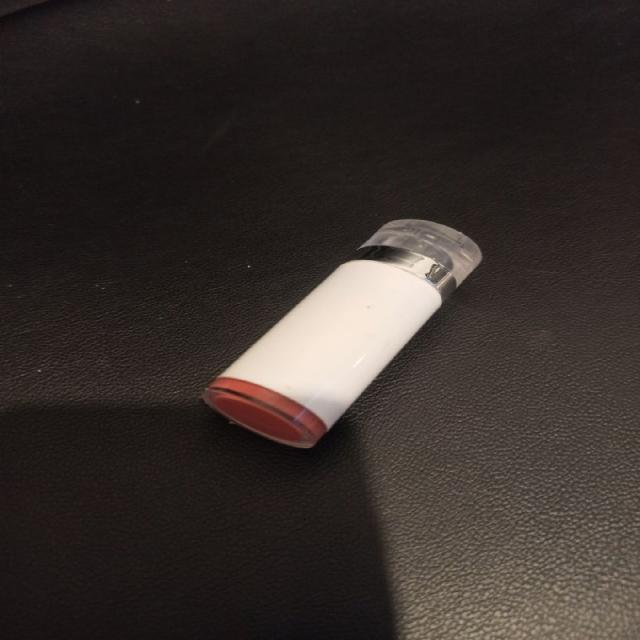lipstick: (202, 216, 482, 449)
